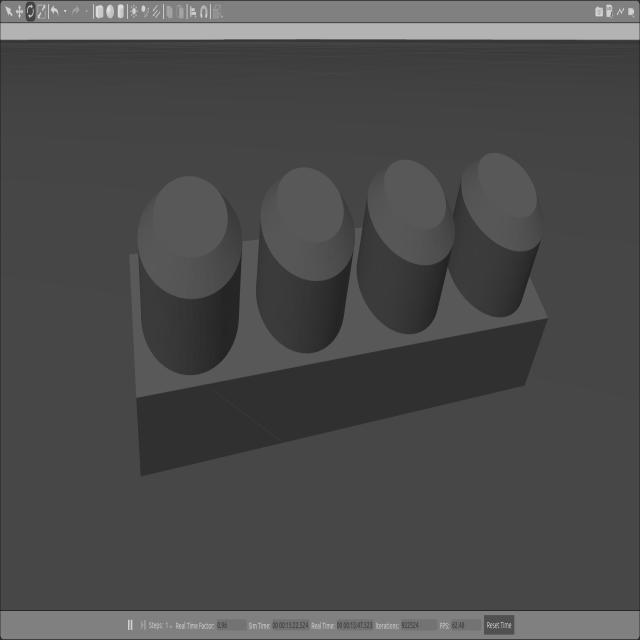block8: (128, 151, 548, 478)
